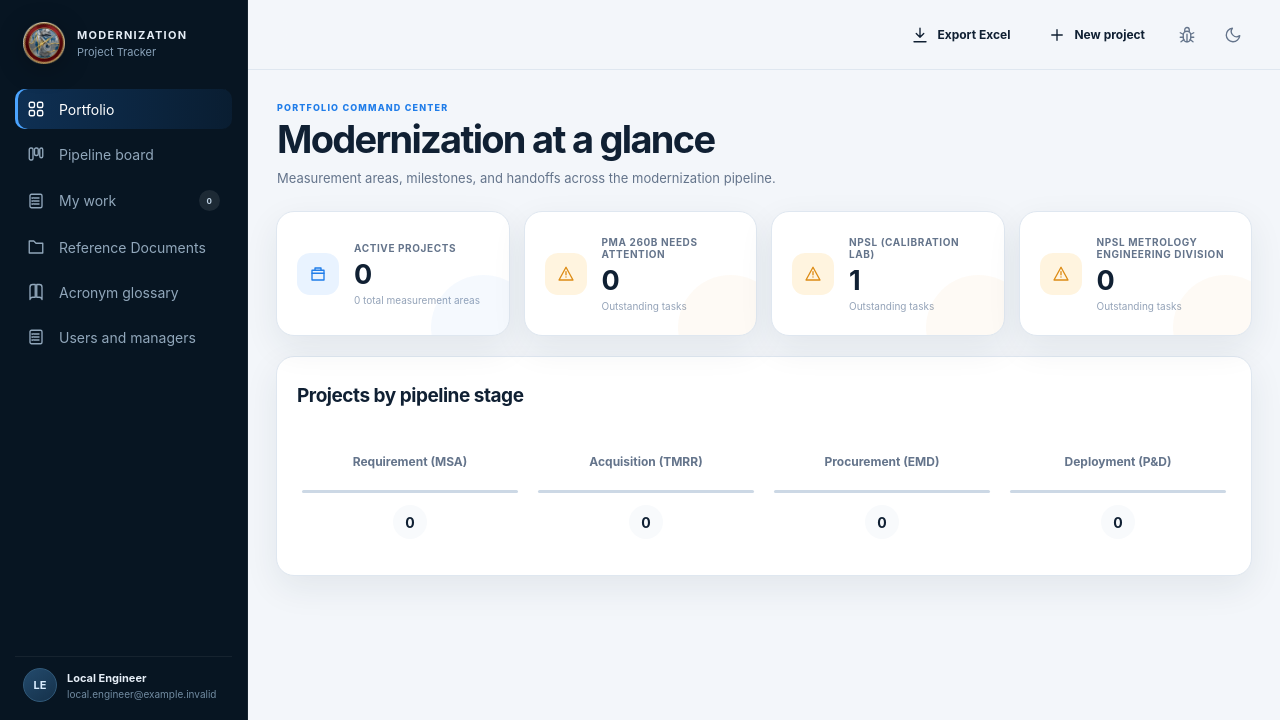
Test case: application shell › deletes a user only from Edit, preserves assignments, and hides self-deletion
The image size is (1280, 720).
Click the button "Users and managers". click: {"x": 124, "y": 337}
box: [15, 317, 232, 357]
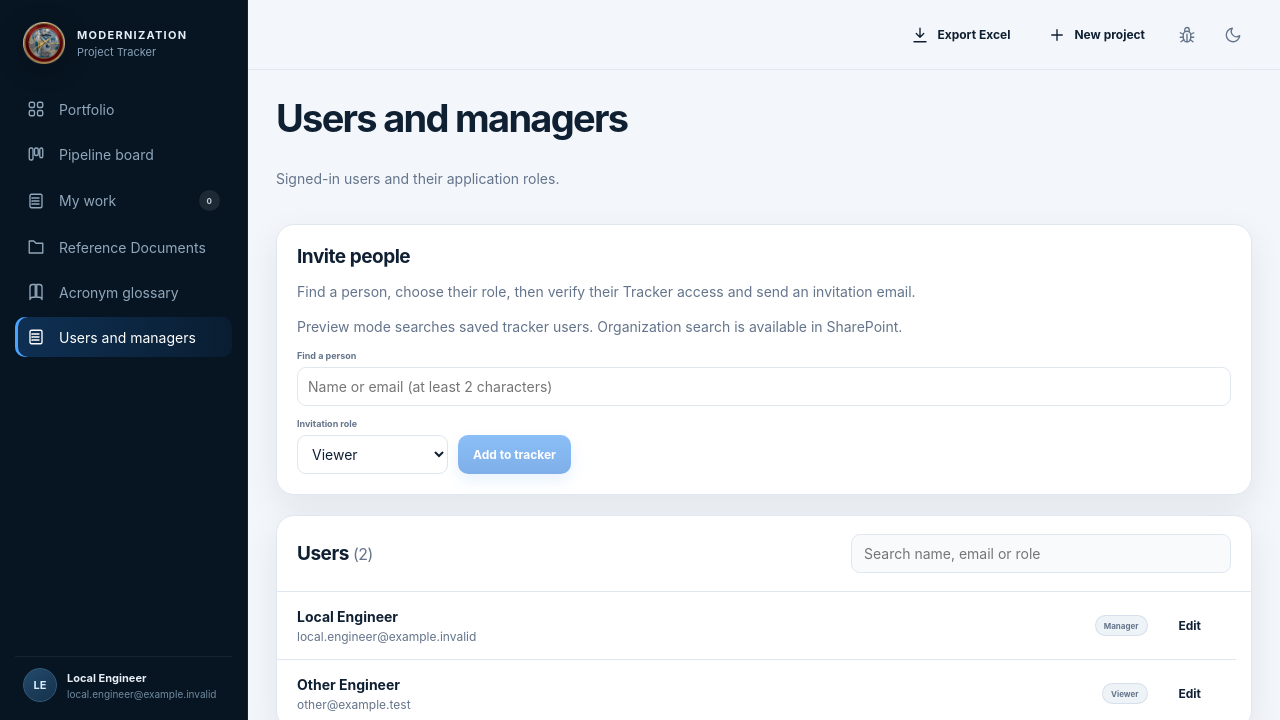
Expected: the text "Delete user" is not shown
Click the button "Edit" next to "Viewer". click: {"x": 1190, "y": 694}
box: [1164, 674, 1216, 713]
(page scrolled)
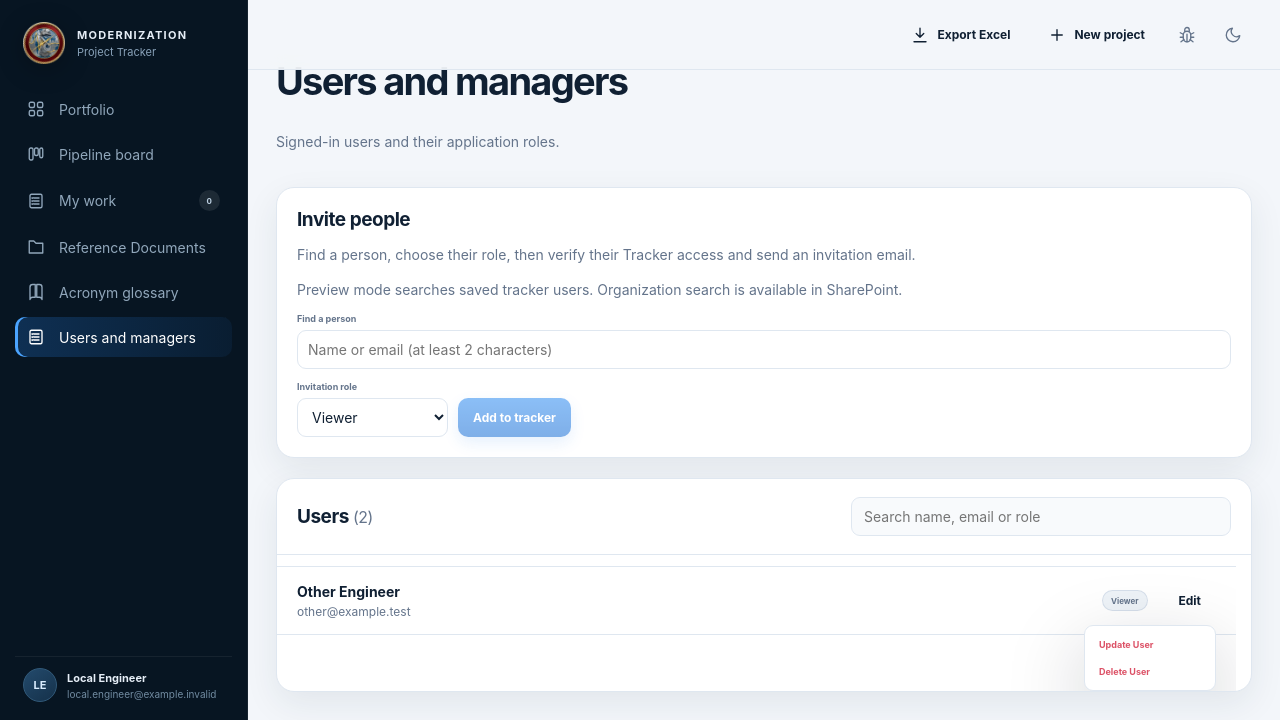
Click the button "Delete User". click: {"x": 1150, "y": 672}
box: [1090, 658, 1210, 685]
(page scrolled)
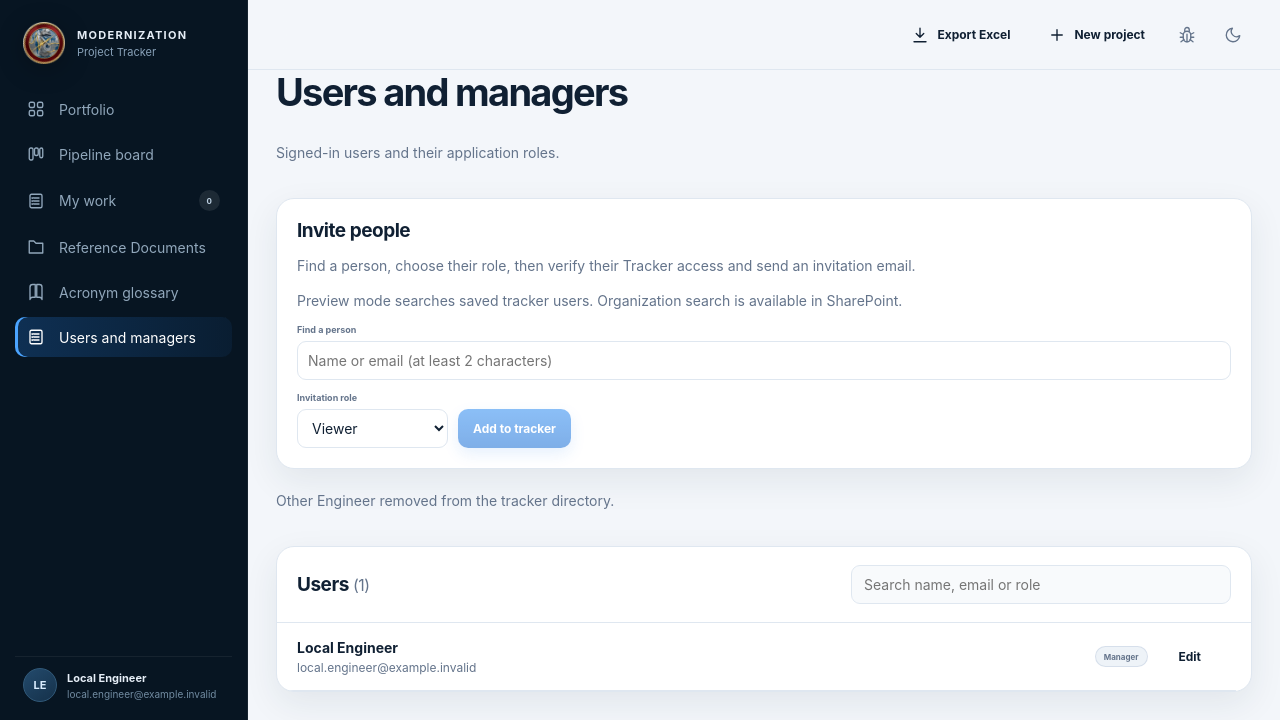
Now the message "Other Engineer removed from the tracker directory." is shown, box [276, 492, 614, 509]
Click the button "Edit". click: {"x": 1190, "y": 657}
box: [1164, 637, 1216, 676]
(page scrolled)
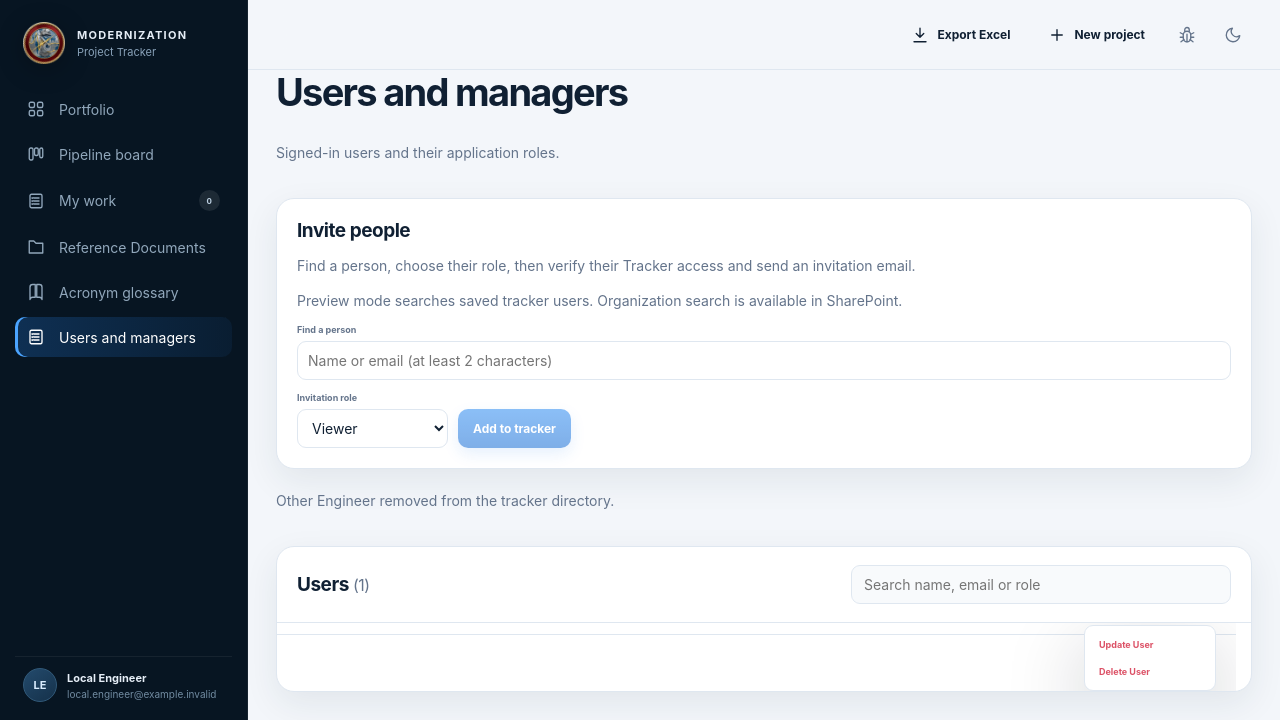
Now the button "Delete User" is disabled, box [1090, 658, 1210, 685]
